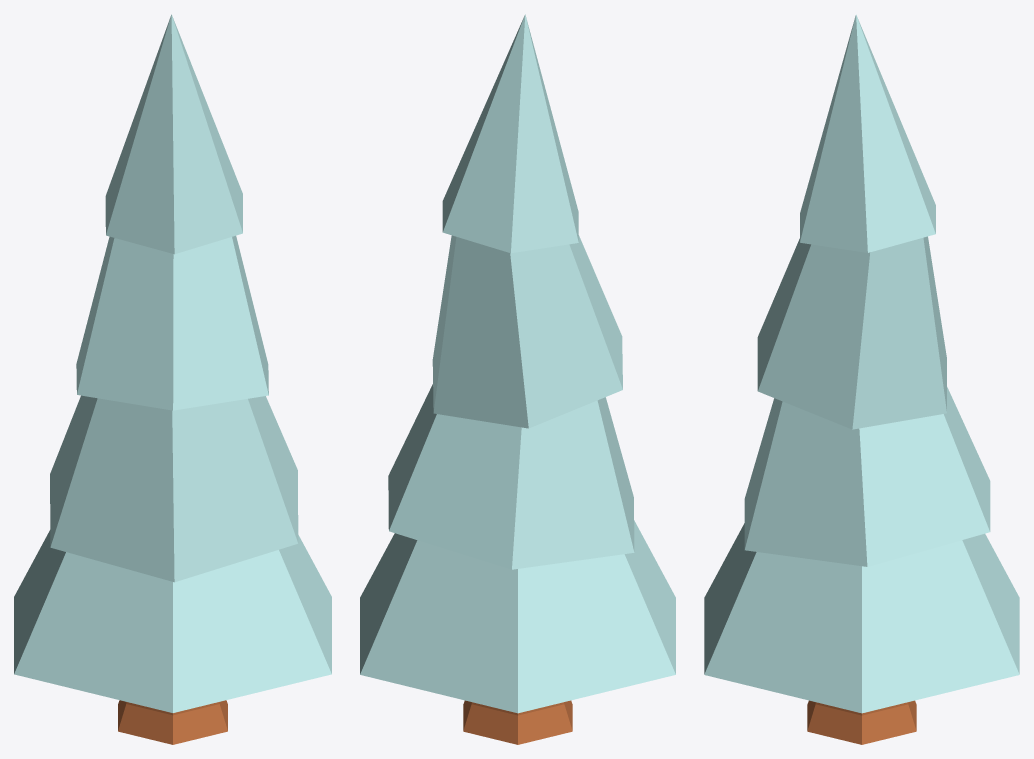
Rendered from treePineSnowed.dae.
3 views of the same model, side by side, from view 1: azimuth 30°, elevation 25°; view 2: azimuth 150°, elevation 25°; view 3: azimuth 270°, elevation 25° (orthographic).
Visible parts, largest first — view 1: treePineSnowed; view 2: treePineSnowed; view 3: treePineSnowed.
Boxes of the visible parts, x1,y1,x2,y2 form: treePineSnowed: (14, 14, 331, 744); treePineSnowed: (360, 14, 675, 744); treePineSnowed: (704, 14, 1019, 744).
Size of the model in its own units: 0.7517 by 1.6 by 0.651.
